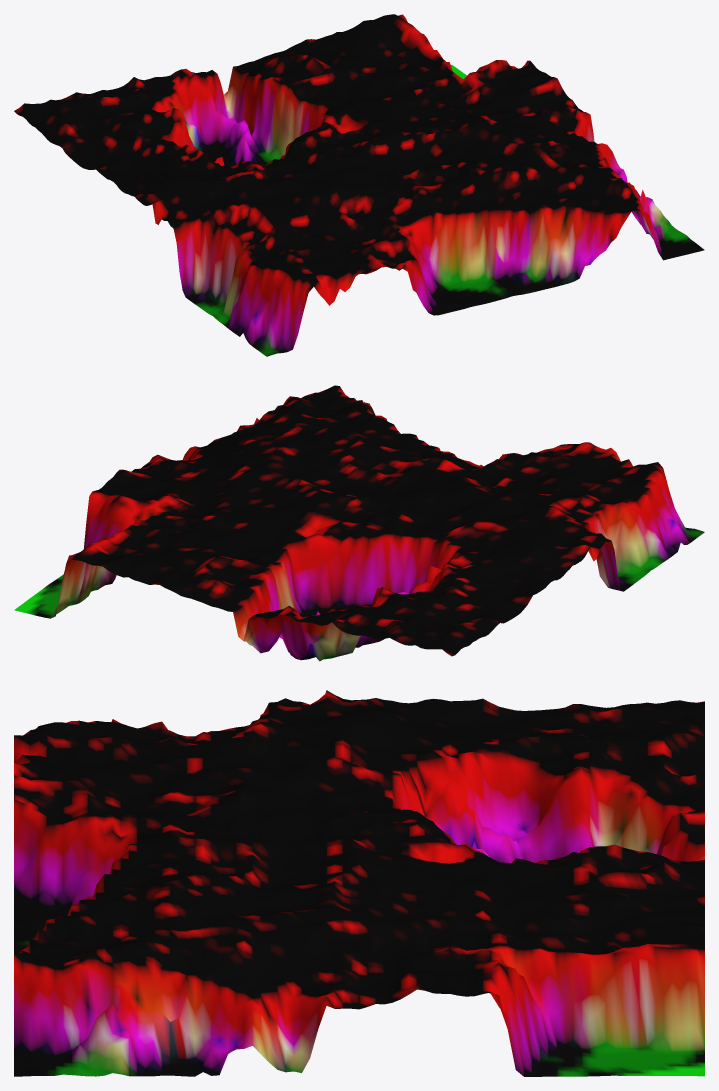
Rendered from SM_AlUla_Terrain_1_0.fbx.
The picture shows the model from 3 angles, top to bottom: view 1: azimuth 30°, elevation 25°; view 2: azimuth 150°, elevation 25°; view 3: azimuth 270°, elevation 25°; orthographic projection. The views are drawn at different scales.
Parts seen in each view (by area): view 1: SM_AlUla_Terrain_1_0; view 2: SM_AlUla_Terrain_1_0; view 3: SM_AlUla_Terrain_1_0.
Part boxes in pixels (x1,y1,x2,y2): SM_AlUla_Terrain_1_0: [14, 14, 704, 356]; SM_AlUla_Terrain_1_0: [14, 385, 704, 661]; SM_AlUla_Terrain_1_0: [14, 690, 704, 1076].
Size of the model in its own units: 50400 by 8115 by 50400.
